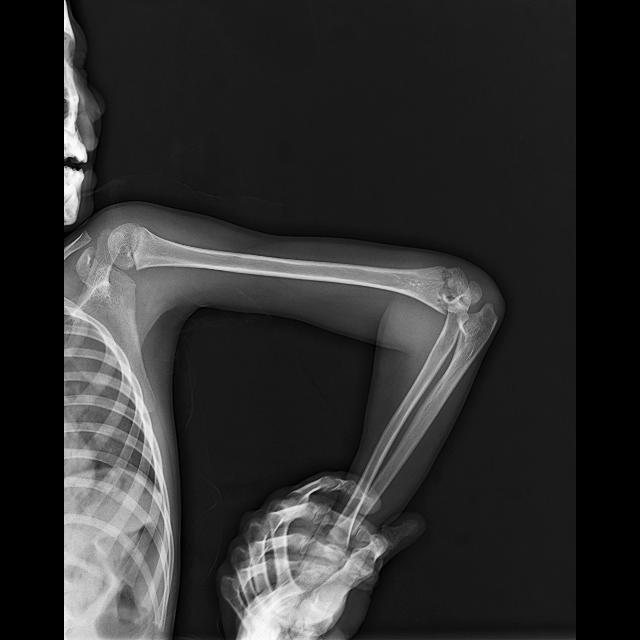Fracture: (433, 280, 486, 318)
